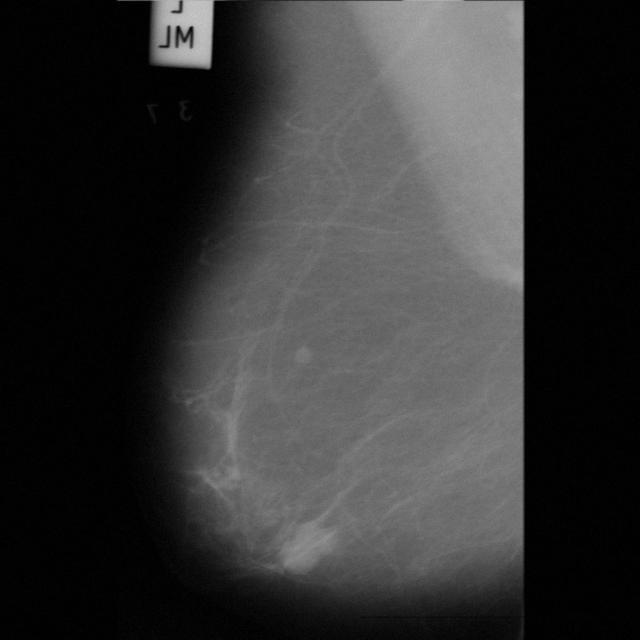CIRC: (279, 538, 317, 576)
